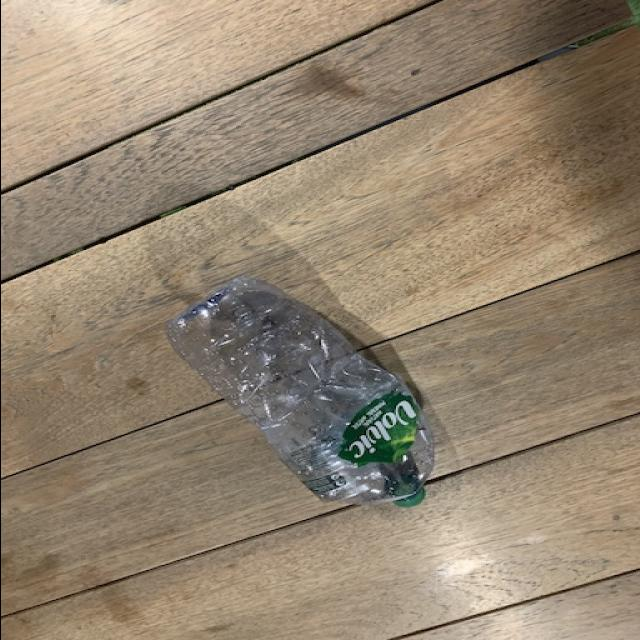PET: (162, 275, 436, 513)
